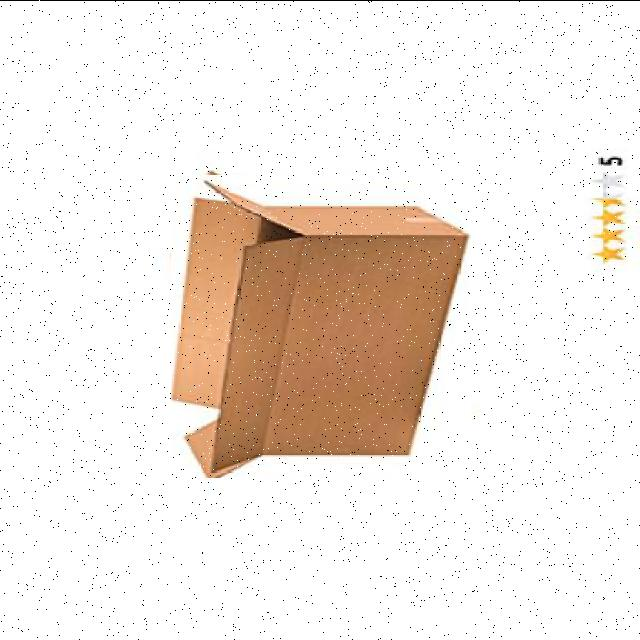defect: (171, 174, 471, 477)
